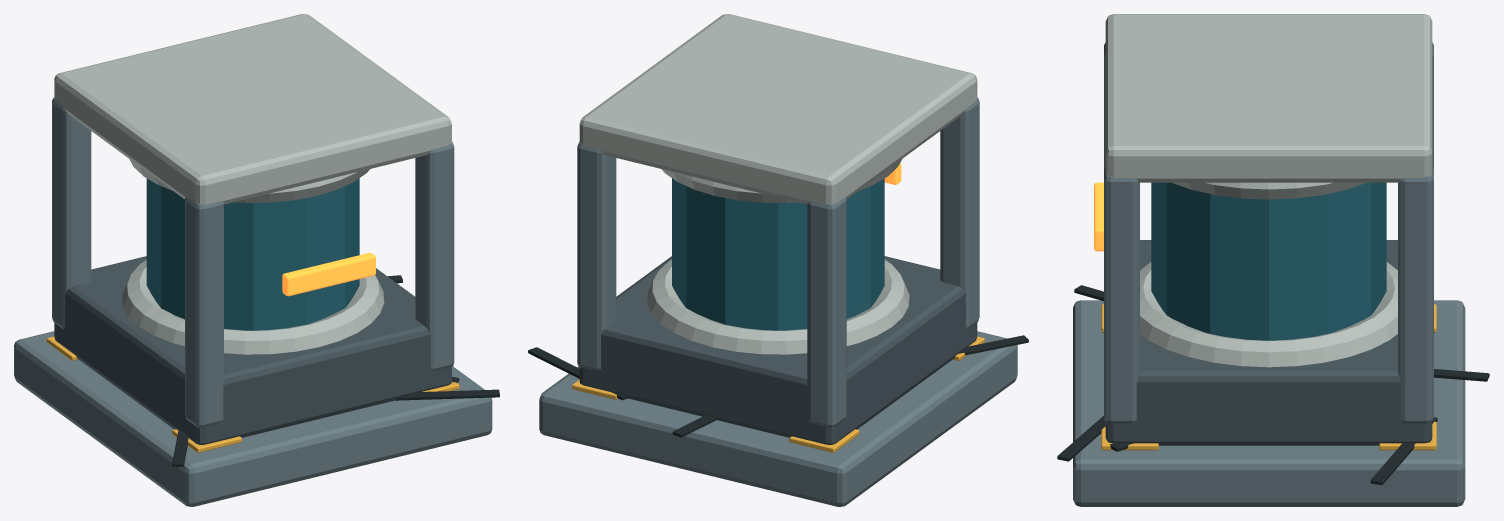
The model's file is research_specimen_crate_d1.glb.
The picture shows the model from 3 angles, left to right: view 1: azimuth 30°, elevation 25°; view 2: azimuth 150°, elevation 25°; view 3: azimuth 270°, elevation 25°; orthographic projection. The views are drawn at different scales.
Visible parts, largest first — view 1: Armored lid.001, Shock cradle.001, Foundation.033, Cryogenic vessel.001, Impact guard.004, Impact guard.006, Impact guard.005, Pressure collar.002, Specimen indicator.001, Pressure collar.003, Scorched impact.247; view 2: Armored lid.001, Shock cradle.001, Foundation.033, Cryogenic vessel.001, Impact guard.005, Impact guard.007, Pressure collar.002, Impact guard.004, Pressure collar.003, Scorched impact.244, Scorched impact.243; view 3: Armored lid.001, Cryogenic vessel.001, Foundation.033, Shock cradle.001, Pressure collar.002, Impact guard.006, Impact guard.007, Pressure collar.003, Scorched impact.244, Scorched impact.247, Specimen indicator.001, Scorched impact.246.
Part boxes in pixels (x1=…): Armored lid.001: x1=54, y1=14, x2=451, y2=204; Shock cradle.001: x1=54, y1=256, x2=451, y2=444; Foundation.033: x1=14, y1=331, x2=492, y2=506; Cryogenic vessel.001: x1=146, y1=178, x2=359, y2=330; Impact guard.004: x1=185, y1=197, x2=223, y2=428; Impact guard.006: x1=415, y1=141, x2=454, y2=371; Impact guard.005: x1=52, y1=98, x2=91, y2=329; Pressure collar.002: x1=122, y1=260, x2=384, y2=354; Specimen indicator.001: x1=282, y1=252, x2=375, y2=296; Pressure collar.003: x1=129, y1=159, x2=369, y2=202; Scorched impact.247: x1=395, y1=389, x2=499, y2=400; Armored lid.001: x1=579, y1=14, x2=977, y2=204; Shock cradle.001: x1=579, y1=256, x2=977, y2=444; Foundation.033: x1=539, y1=331, x2=1017, y2=506; Cryogenic vessel.001: x1=672, y1=178, x2=884, y2=330; Impact guard.005: x1=807, y1=197, x2=846, y2=428; Impact guard.007: x1=577, y1=141, x2=616, y2=371; Pressure collar.002: x1=647, y1=259, x2=909, y2=354; Impact guard.004: x1=940, y1=98, x2=979, y2=329; Pressure collar.003: x1=661, y1=159, x2=901, y2=202; Scorched impact.244: x1=528, y1=347, x2=627, y2=400; Scorched impact.243: x1=958, y1=335, x2=1028, y2=355; Armored lid.001: x1=1105, y1=14, x2=1432, y2=182; Cryogenic vessel.001: x1=1151, y1=182, x2=1386, y2=340; Foundation.033: x1=1073, y1=300, x2=1465, y2=506; Shock cradle.001: x1=1105, y1=240, x2=1432, y2=445; Pressure collar.002: x1=1140, y1=262, x2=1397, y2=367; Impact guard.006: x1=1104, y1=167, x2=1139, y2=424; Impact guard.007: x1=1398, y1=166, x2=1433, y2=424; Pressure collar.003: x1=1172, y1=182, x2=1366, y2=199; Scorched impact.244: x1=1370, y1=417, x2=1437, y2=485; Scorched impact.247: x1=1057, y1=415, x2=1105, y2=461; Specimen indicator.001: x1=1094, y1=182, x2=1103, y2=251; Scorched impact.246: x1=1434, y1=369, x2=1489, y2=381.
Bounding box in the file's own units: 2.85 × 2.34 × 2.64.
